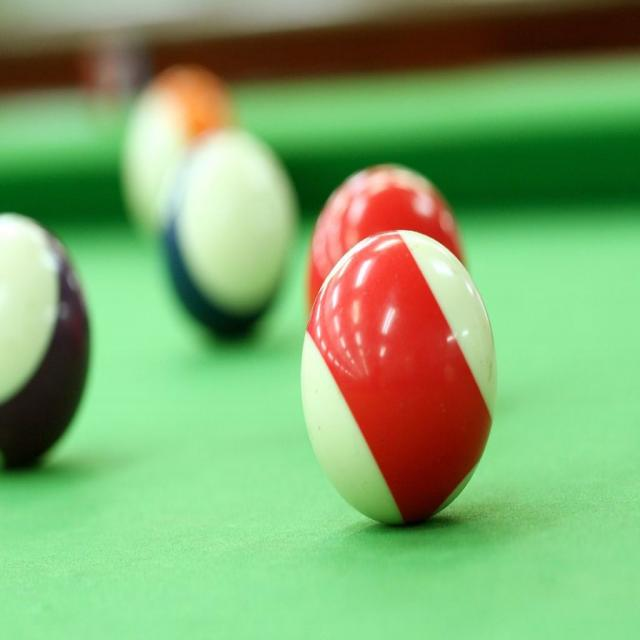Ball: (301, 224, 501, 532), (158, 124, 306, 338), (305, 158, 463, 312), (0, 209, 91, 470), (120, 58, 240, 242)
Billiard table: (0, 61, 640, 640)
